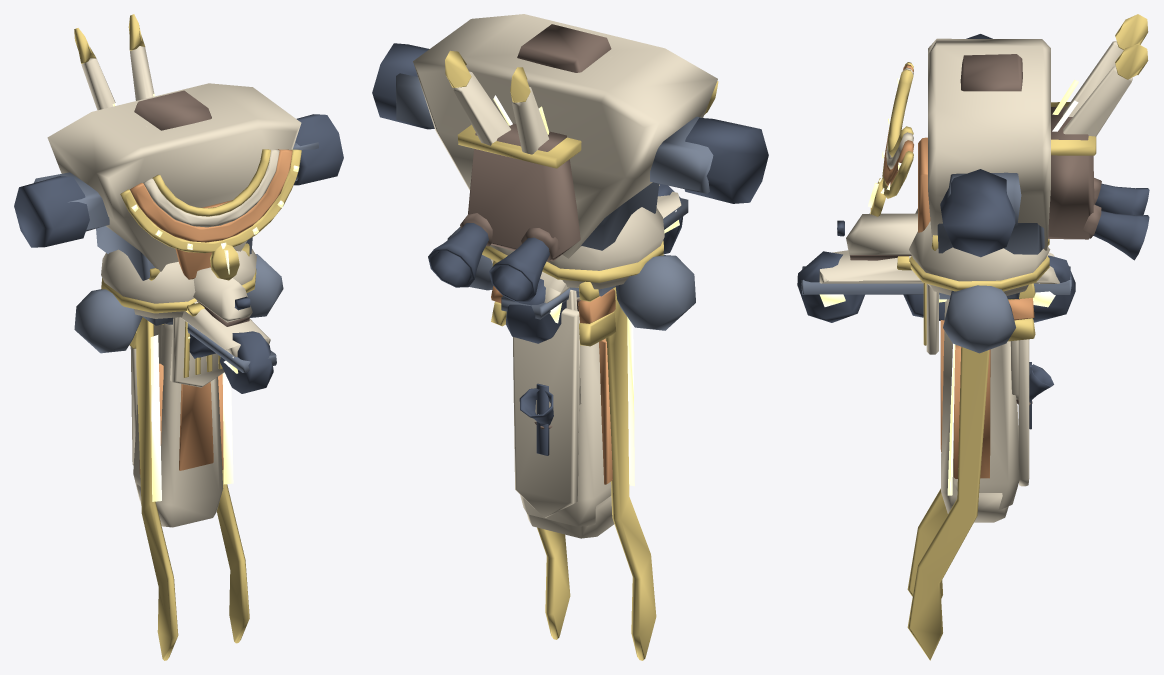
The model's file is anubis-lod1.glb.
The picture shows the model from 3 angles, left to right: view 1: azimuth 30°, elevation 25°; view 2: azimuth 150°, elevation 25°; view 3: azimuth 270°, elevation 25°; orthographic projection. The views are drawn at different scales.
Parts seen in each view (by area): view 1: chest/P, hipL/P, chest/D, elR/T, chest/T, hips/K, chest/S, shR/P, kneeL/S, elL/T, chest/K, ankleL/D (+13 smaller); view 2: chest/P, chest/F, chest/D, hipL/P, elR/T, chest/K, hips/K, kneeL/P, shR/P, ankleL/D, elL/T, chest/T (+12 smaller); view 3: chest/P, elL/T, chest/D, chest/F, kneeL/P, hipL/P, shL/P, hips/K, ankleL/D, chest/T, head/P, ankleL/P (+15 smaller).
Part boxes in pixels (left/top/right/bottom): chest/P: left=47, top=83, right=301, bottom=271; hipL/P: left=130, top=323, right=223, bottom=527; chest/D: left=14, top=114, right=343, bottom=247; elR/T: left=136, top=317, right=178, bottom=660; chest/T: left=120, top=149, right=301, bottom=280; hips/K: left=74, top=254, right=283, bottom=353; chest/S: left=130, top=149, right=292, bottom=279; shR/P: left=101, top=249, right=195, bottom=318; kneeL/S: left=179, top=382, right=213, bottom=470; elL/T: left=162, top=324, right=249, bottom=643; chest/K: left=34, top=142, right=318, bottom=280; ankleL/D: left=189, top=331, right=273, bottom=393; chest/P: left=413, top=14, right=717, bottom=258; chest/F: left=460, top=24, right=611, bottom=261; chest/D: left=372, top=43, right=768, bottom=302; hipL/P: left=513, top=308, right=614, bottom=538; elR/T: left=605, top=287, right=656, bottom=660; chest/K: left=396, top=73, right=713, bottom=250; hips/K: left=447, top=227, right=695, bottom=330; kneeL/P: left=520, top=297, right=611, bottom=526; shR/P: left=548, top=207, right=664, bottom=289; ankleL/D: left=506, top=183, right=683, bottom=343; elL/T: left=537, top=527, right=570, bottom=639; chest/T: left=457, top=81, right=718, bottom=168; chest/P: left=886, top=38, right=1050, bottom=250; elL/T: left=907, top=347, right=989, bottom=660; chest/D: left=940, top=34, right=1149, bottom=260; chest/F: left=960, top=54, right=1101, bottom=239; kneeL/P: left=954, top=341, right=1019, bottom=509; hipL/P: left=941, top=299, right=1029, bottom=522; shL/P: left=909, top=221, right=1050, bottom=295; hips/K: left=939, top=285, right=1019, bottom=353; ankleL/D: left=797, top=251, right=1075, bottom=322; chest/T: left=870, top=62, right=1096, bottom=216; head/P: left=846, top=213, right=917, bottom=255; ankleL/P: left=819, top=250, right=1059, bottom=283.
Size of the model in its own units: 3.07 by 5.49 by 2.86.
